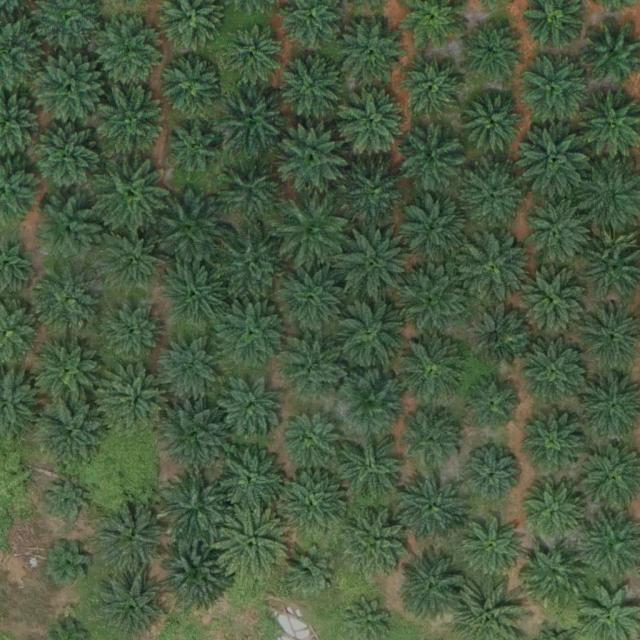Healthy: (30, 120, 108, 199), (93, 84, 171, 163), (93, 156, 171, 235), (153, 191, 231, 270), (213, 78, 291, 157), (212, 152, 290, 231), (212, 225, 290, 304), (275, 121, 353, 200), (274, 195, 352, 274), (334, 225, 412, 304), (514, 124, 592, 203), (332, 296, 410, 375), (274, 259, 352, 338), (213, 294, 291, 373), (216, 509, 294, 588), (159, 471, 237, 550), (335, 86, 413, 164), (454, 230, 532, 308), (396, 261, 474, 339), (396, 331, 474, 409), (32, 197, 103, 268), (32, 269, 103, 340), (34, 52, 104, 123), (100, 226, 170, 297), (520, 50, 590, 121), (399, 475, 469, 546), (336, 435, 407, 505), (277, 468, 347, 539), (216, 376, 286, 447), (217, 443, 287, 514), (162, 397, 232, 468), (161, 539, 232, 609), (101, 369, 172, 439), (32, 337, 103, 407), (95, 17, 165, 87), (522, 198, 592, 268), (97, 503, 167, 573), (35, 400, 105, 470), (164, 117, 227, 180), (220, 24, 283, 87), (340, 20, 403, 83), (345, 162, 408, 225), (404, 195, 467, 258), (524, 343, 587, 406), (520, 413, 583, 476), (522, 483, 585, 546), (524, 546, 587, 609), (402, 409, 465, 472), (404, 559, 467, 622), (349, 509, 412, 572), (160, 58, 222, 121), (281, 54, 343, 117), (401, 59, 463, 122), (402, 130, 464, 193), (462, 19, 524, 82), (463, 92, 525, 155), (461, 164, 523, 227), (522, 272, 584, 335), (467, 304, 529, 367), (461, 516, 523, 579), (342, 372, 404, 435), (285, 336, 347, 399), (158, 337, 220, 400), (164, 262, 226, 324), (100, 304, 162, 366), (465, 379, 520, 434), (463, 449, 518, 504), (285, 412, 340, 467)
Small: (284, 546, 339, 601), (45, 479, 92, 526), (46, 541, 93, 588)
